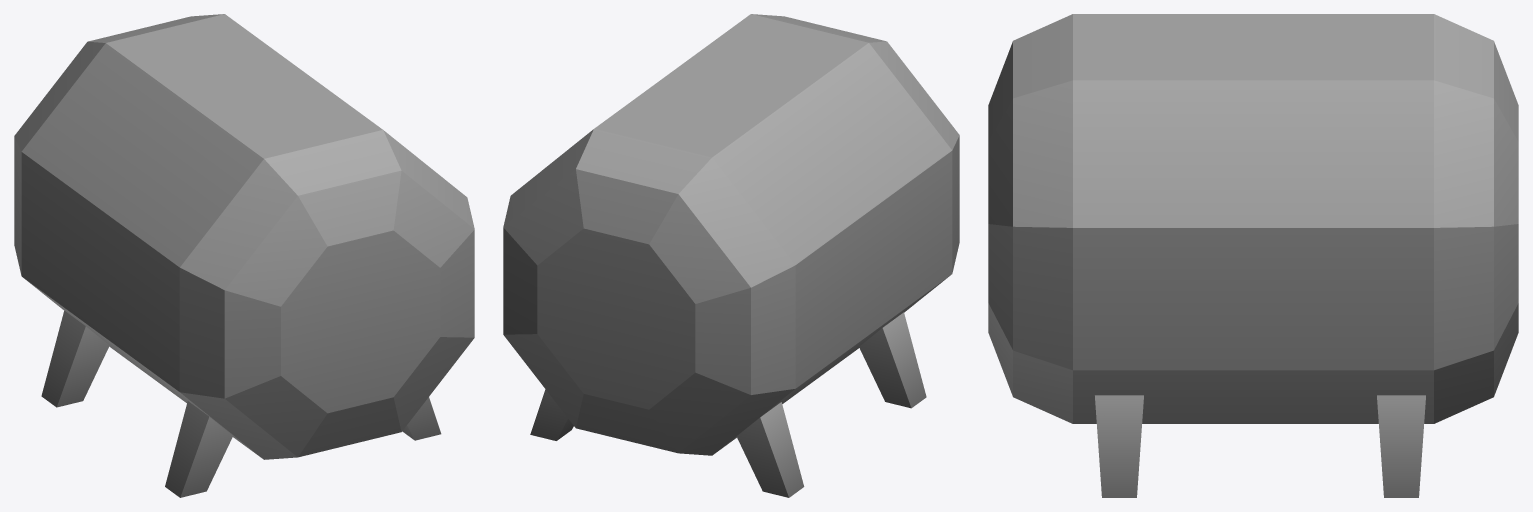
File: small cistern.fbx
3 views of the same model, side by side, from view 1: azimuth 30°, elevation 25°; view 2: azimuth 150°, elevation 25°; view 3: azimuth 270°, elevation 25° (orthographic). The views are drawn at different scales.
Parts seen in each view (by area): view 1: small_cistern; view 2: small_cistern; view 3: small_cistern.
Boxes of the visible parts, x1,y1,x2,y2 form: small_cistern: (14, 14, 474, 497); small_cistern: (503, 14, 959, 497); small_cistern: (988, 14, 1518, 497).
Size of the model in its own units: 148 by 163 by 207.
Materials: 1 (1 with a texture image).
